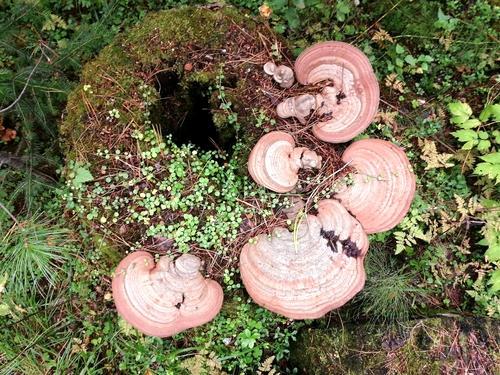Ganoderma - Fruit Body: (241, 200, 368, 320), (279, 42, 381, 140), (111, 250, 223, 339), (327, 139, 416, 233), (247, 131, 306, 193)
